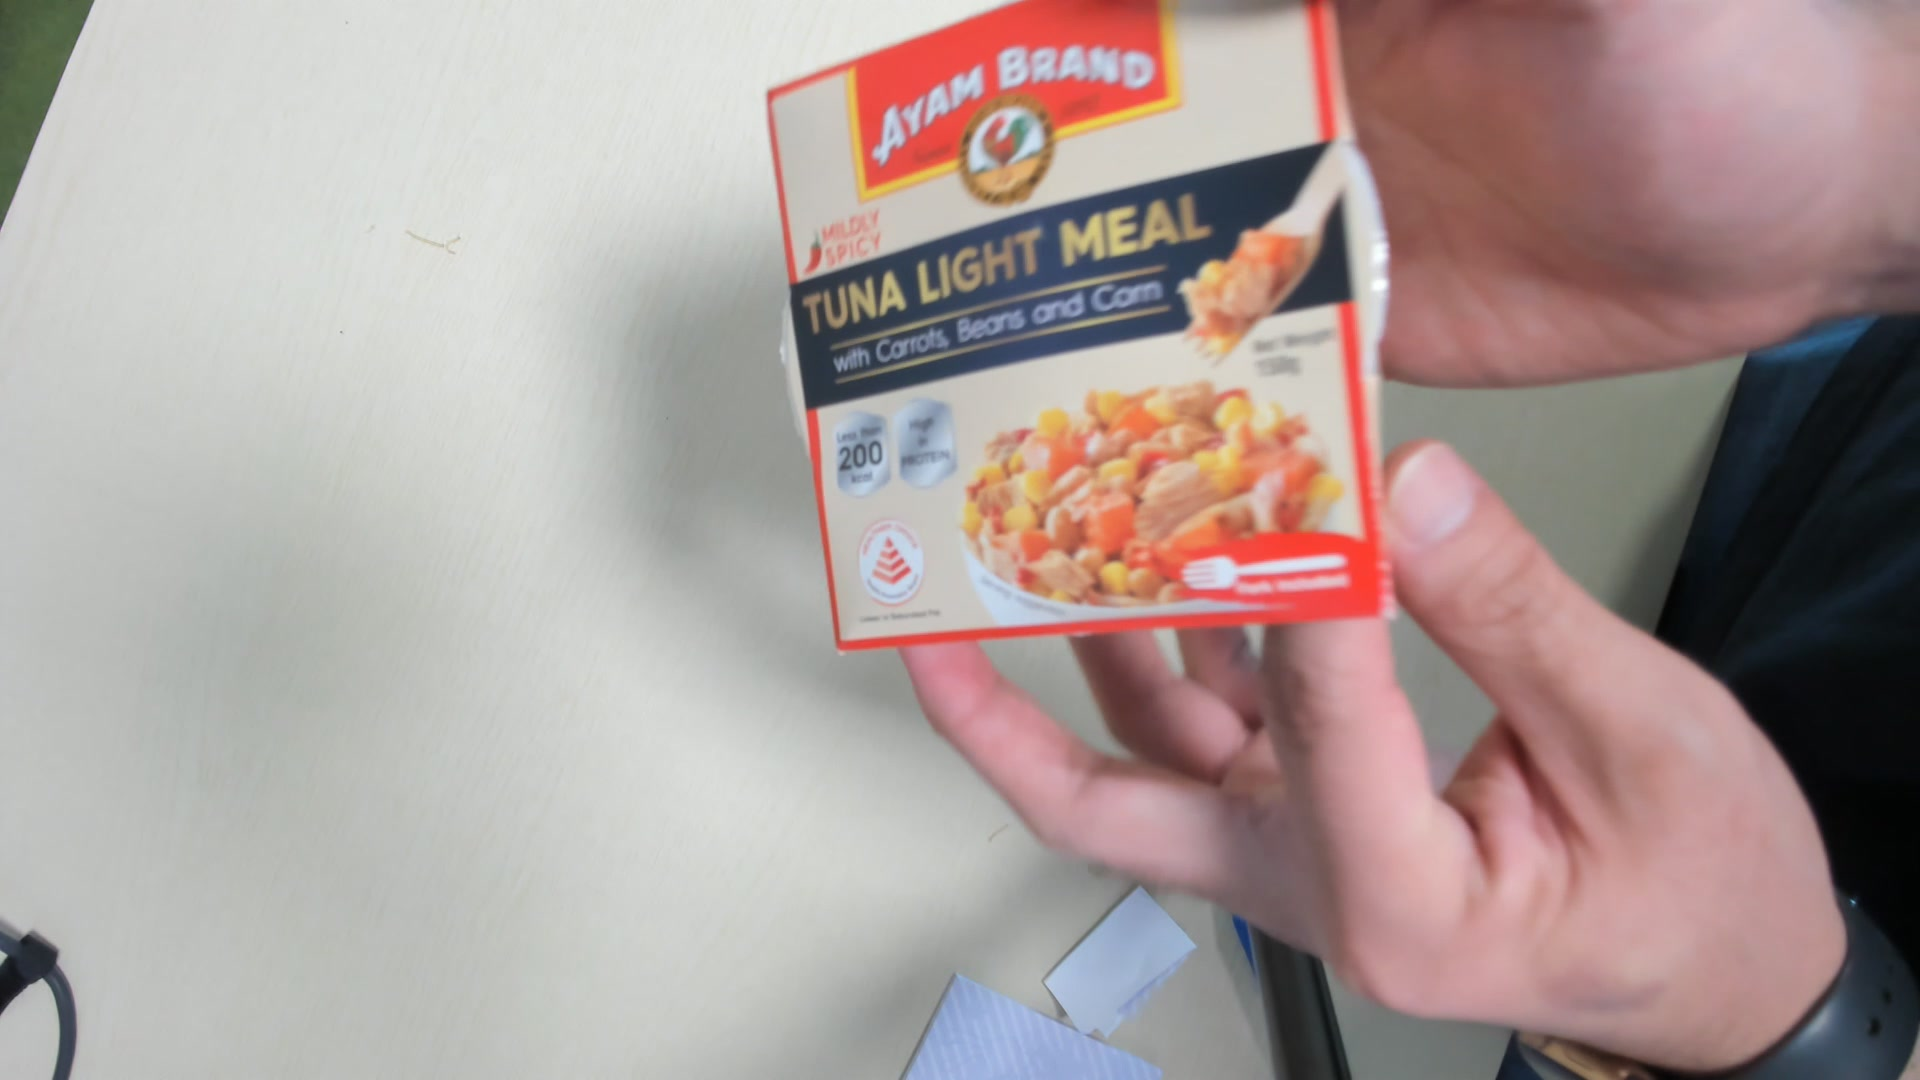InstantMeals_100-199g_NonHalal_Healthy: (754, 8, 1396, 645)
